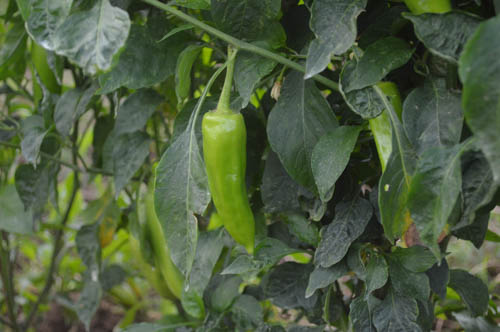ChiliPepper: (199, 109, 258, 253), (144, 183, 185, 294), (370, 83, 400, 172)
